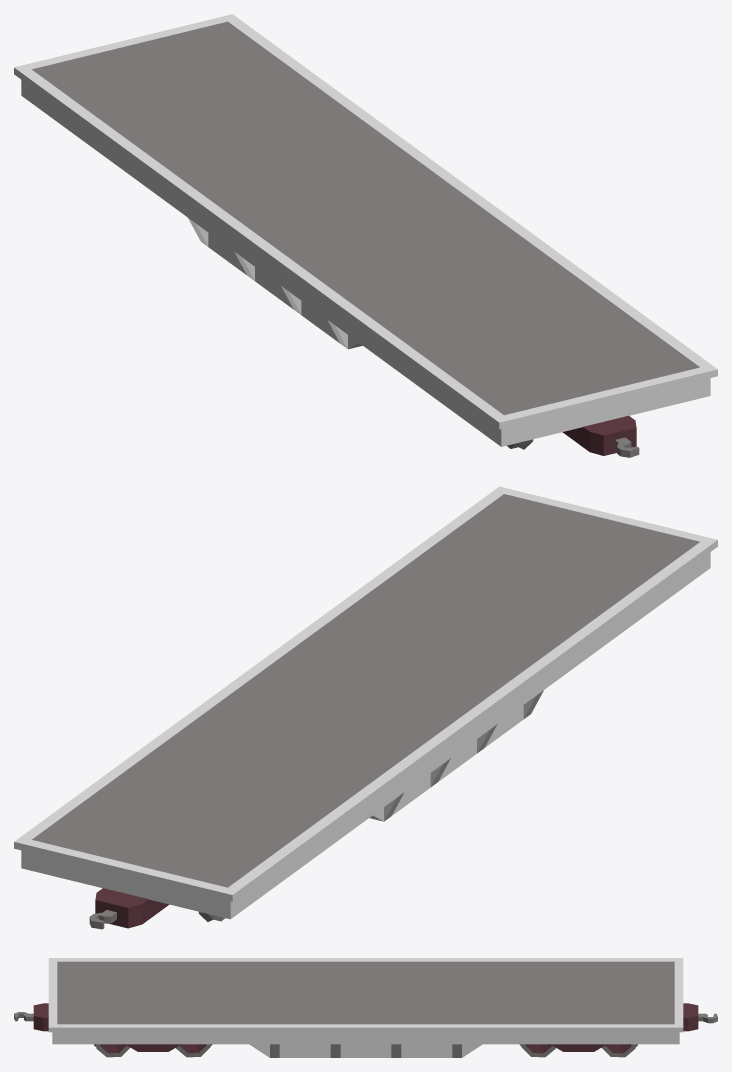
Rendered from train-wagon-cargo.fbx.
3 views of the same model, one above another, from view 1: azimuth 30°, elevation 25°; view 2: azimuth 150°, elevation 25°; view 3: azimuth 270°, elevation 25° (orthographic). The views are drawn at different scales.
Parts seen in each view (by area): view 1: train-wagon-cargo-base; view 2: train-wagon-cargo-base; view 3: train-wagon-cargo-base, train-wagon-cargo-wheel_B1, train-wagon-cargo-wheel_F2, train-wagon-cargo-wheel_B2, train-wagon-cargo-wheel_F1, train-wagon-cargo-frame_B, train-wagon-cargo-frame_F.
Part boxes in pixels (x1,y1,x2,y2): train-wagon-cargo-base: (14, 14, 717, 457); train-wagon-cargo-base: (14, 486, 717, 929); train-wagon-cargo-base: (14, 958, 717, 1057); train-wagon-cargo-wheel_B1: (519, 1044, 555, 1057); train-wagon-cargo-wheel_F2: (176, 1044, 212, 1057); train-wagon-cargo-wheel_B2: (601, 1044, 637, 1057); train-wagon-cargo-wheel_F1: (94, 1044, 130, 1057); train-wagon-cargo-frame_B: (550, 1044, 606, 1051); train-wagon-cargo-frame_F: (125, 1044, 181, 1051).
Bounding box in the file's own units: 3.34 × 1.11 × 14.26.
